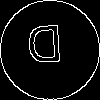D: (25, 25, 64, 72)
